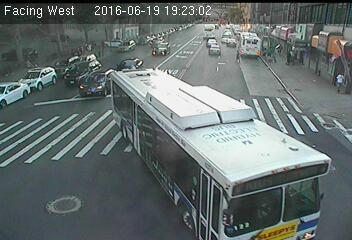neg: (145, 68, 169, 100), (208, 58, 232, 90), (22, 73, 39, 96)
pos: (331, 68, 350, 94)
